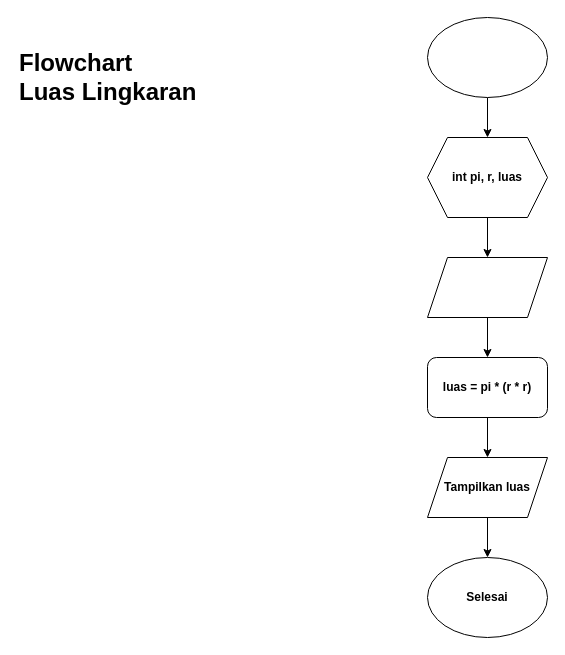
This 565x655 diagram has some shape labels left out. The box of each missing label's shape, as (x1, y1, x2, y2) in pixels:
Input pi, r: (426, 256, 548, 318)
Mulai: (426, 16, 548, 98)
